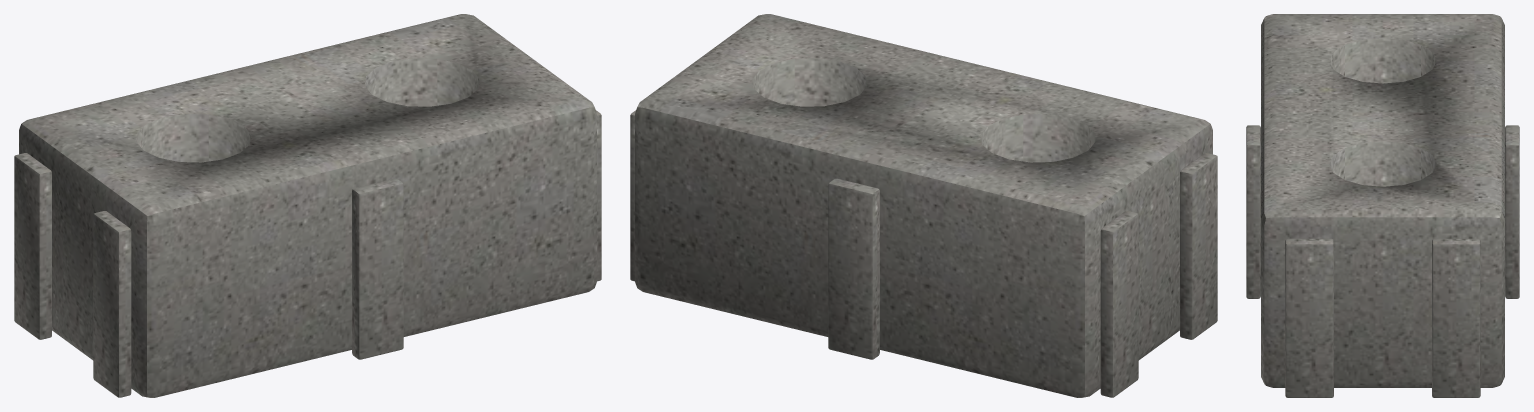
File: PAV-BLQ-004.glb
3 renders of one model, left to right at view 1: azimuth 30°, elevation 25°; view 2: azimuth 150°, elevation 25°; view 3: azimuth 270°, elevation 25°, orthographic. The views are drawn at different scales.
Visible parts, largest first — view 1: PAV-BLQ-004_peca, PAV-BLQ-004_esp5, PAV-BLQ-004_esp1, PAV-BLQ-004_esp0, PAV-BLQ-004_esp3; view 2: PAV-BLQ-004_peca, PAV-BLQ-004_esp4, PAV-BLQ-004_esp0, PAV-BLQ-004_esp1, PAV-BLQ-004_esp2; view 3: PAV-BLQ-004_peca, PAV-BLQ-004_esp2, PAV-BLQ-004_esp3, PAV-BLQ-004_esp4, PAV-BLQ-004_esp5.
Boxes of the visible parts, x1=… form: PAV-BLQ-004_peca: x1=19, y1=14, x2=596, y2=397; PAV-BLQ-004_esp5: x1=352, y1=178, x2=403, y2=359; PAV-BLQ-004_esp1: x1=93, y1=211, x2=131, y2=397; PAV-BLQ-004_esp0: x1=14, y1=153, x2=51, y2=339; PAV-BLQ-004_esp3: x1=596, y1=110, x2=601, y2=281; PAV-BLQ-004_peca: x1=635, y1=14, x2=1212, y2=397; PAV-BLQ-004_esp4: x1=828, y1=178, x2=879, y2=359; PAV-BLQ-004_esp0: x1=1100, y1=211, x2=1138, y2=397; PAV-BLQ-004_esp1: x1=1180, y1=153, x2=1217, y2=339; PAV-BLQ-004_esp2: x1=630, y1=110, x2=635, y2=281; PAV-BLQ-004_peca: x1=1261, y1=14, x2=1504, y2=387; PAV-BLQ-004_esp2: x1=1432, y1=238, x2=1480, y2=397; PAV-BLQ-004_esp3: x1=1285, y1=238, x2=1333, y2=397; PAV-BLQ-004_esp4: x1=1505, y1=125, x2=1519, y2=298; PAV-BLQ-004_esp5: x1=1246, y1=125, x2=1260, y2=298.
Bounding box in the file's own units: 0.212 × 0.08 × 0.112.
1 material, 1 textured.
